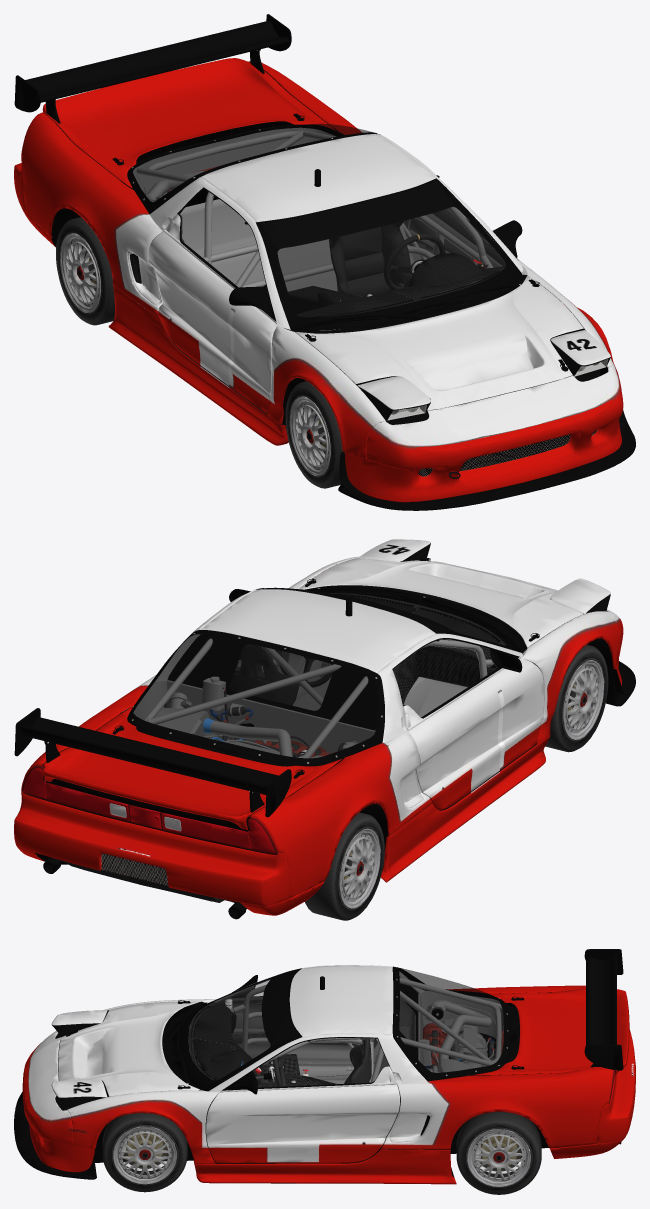
The model's file is nsx.glb.
3 renders of one model, top to bottom at view 1: azimuth 30°, elevation 25°; view 2: azimuth 150°, elevation 25°; view 3: azimuth 270°, elevation 25°, orthographic. The views are drawn at different scales.
Parts seen in each view (by area): view 1: body_body, body_window, interior_body, interior_metal, interior_carbon_fiber, wheel_RR, wheel_RF, body_plastic2, interior_cloth, body_misc, body_matte_colors, body_black (+8 smaller); view 2: body_body, body_window, interior_metal, interior_body, interior_plastic, wheel_RR, body_matte_colors, body_detail_glass_red, wheel_RF, interior_carbon_fiber, body_black_glass, interior_glass (+10 smaller); view 3: body_body, body_window, interior_metal, interior_body, wheel_LR, wheel_LF, interior_carbon_fiber, body_black_glass, interior_plastic, body_plastic2, body_matte_colors, body_misc (+9 smaller).
Boxes of the visible parts, x1,y1,x2,y2 form: body_body: (14, 14, 623, 502); body_window: (133, 123, 505, 316); interior_body: (295, 275, 583, 410); interior_metal: (133, 127, 505, 379); interior_carbon_fiber: (288, 253, 505, 317); wheel_RR: (56, 217, 114, 325); wheel_RF: (285, 381, 343, 488); body_plastic2: (130, 254, 635, 510); interior_cloth: (329, 221, 412, 297); body_misc: (132, 129, 521, 330); body_matte_colors: (55, 121, 597, 476); body_black: (51, 208, 596, 476); body_body: (14, 539, 623, 915); body_window: (133, 590, 505, 757); interior_metal: (133, 597, 528, 758); interior_body: (298, 558, 583, 647); interior_plastic: (164, 593, 505, 757); wheel_RR: (305, 812, 384, 920); body_matte_colors: (43, 588, 527, 919); body_detail_glass_red: (21, 765, 278, 854); wheel_RF: (545, 645, 608, 752); interior_carbon_fiber: (337, 597, 498, 705); body_black_glass: (127, 630, 384, 766); interior_glass: (230, 644, 332, 710); body_body: (22, 949, 635, 1184); body_window: (188, 968, 503, 1080); interior_metal: (188, 971, 503, 1151); interior_body: (58, 1001, 200, 1096); wheel_LR: (456, 1112, 541, 1194); wheel_LF: (102, 1113, 187, 1192); interior_carbon_fiber: (194, 1002, 336, 1087); body_black_glass: (392, 966, 510, 1081); interior_plastic: (188, 983, 495, 1081); body_plastic2: (14, 1092, 429, 1179); body_matte_colors: (162, 1001, 621, 1144); body_misc: (120, 967, 508, 1165).
Size of the model in its own units: 1.86 by 1.26 by 4.4.
38 materials, 27 textured.
